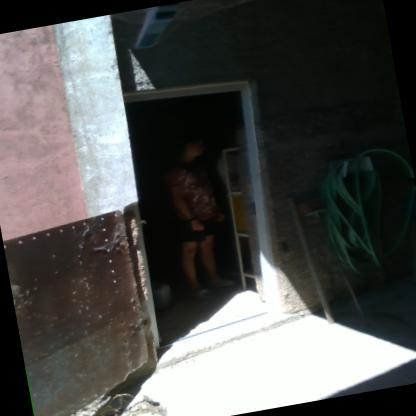open: (113, 66, 300, 356)
